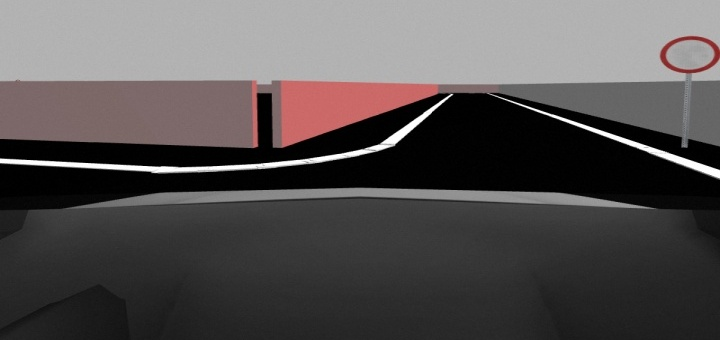girilmez: (659, 34, 720, 73)
